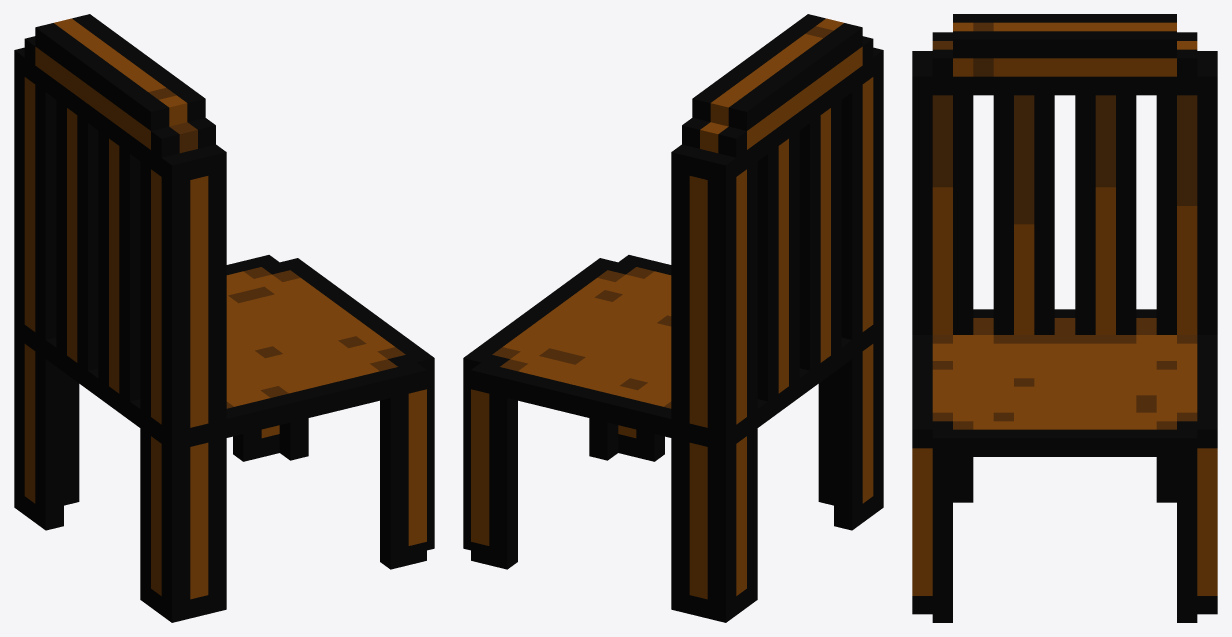
The model's file is WoodenChair.obj.
3 renders of one model, left to right at view 1: azimuth 30°, elevation 25°; view 2: azimuth 150°, elevation 25°; view 3: azimuth 270°, elevation 25°, orthographic. The views are drawn at different scales.
Visible parts, largest first — view 1: WoodenChair.002; view 2: WoodenChair.002; view 3: WoodenChair.002.
Boxes of the visible parts, bbox=[...] form: WoodenChair.002: bbox=[14, 14, 434, 622]; WoodenChair.002: bbox=[463, 14, 883, 622]; WoodenChair.002: bbox=[912, 14, 1217, 622].
Bounding box in the file's own units: 1.5 × 2.6 × 1.5.
1 material, 1 textured.
